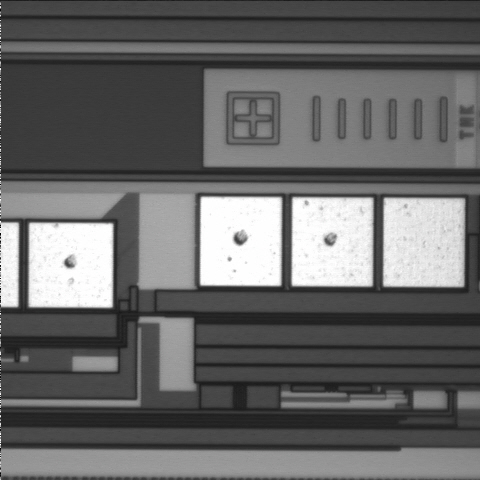pad: (200, 197, 282, 286), (292, 197, 373, 286), (383, 198, 464, 287), (29, 223, 113, 308)
